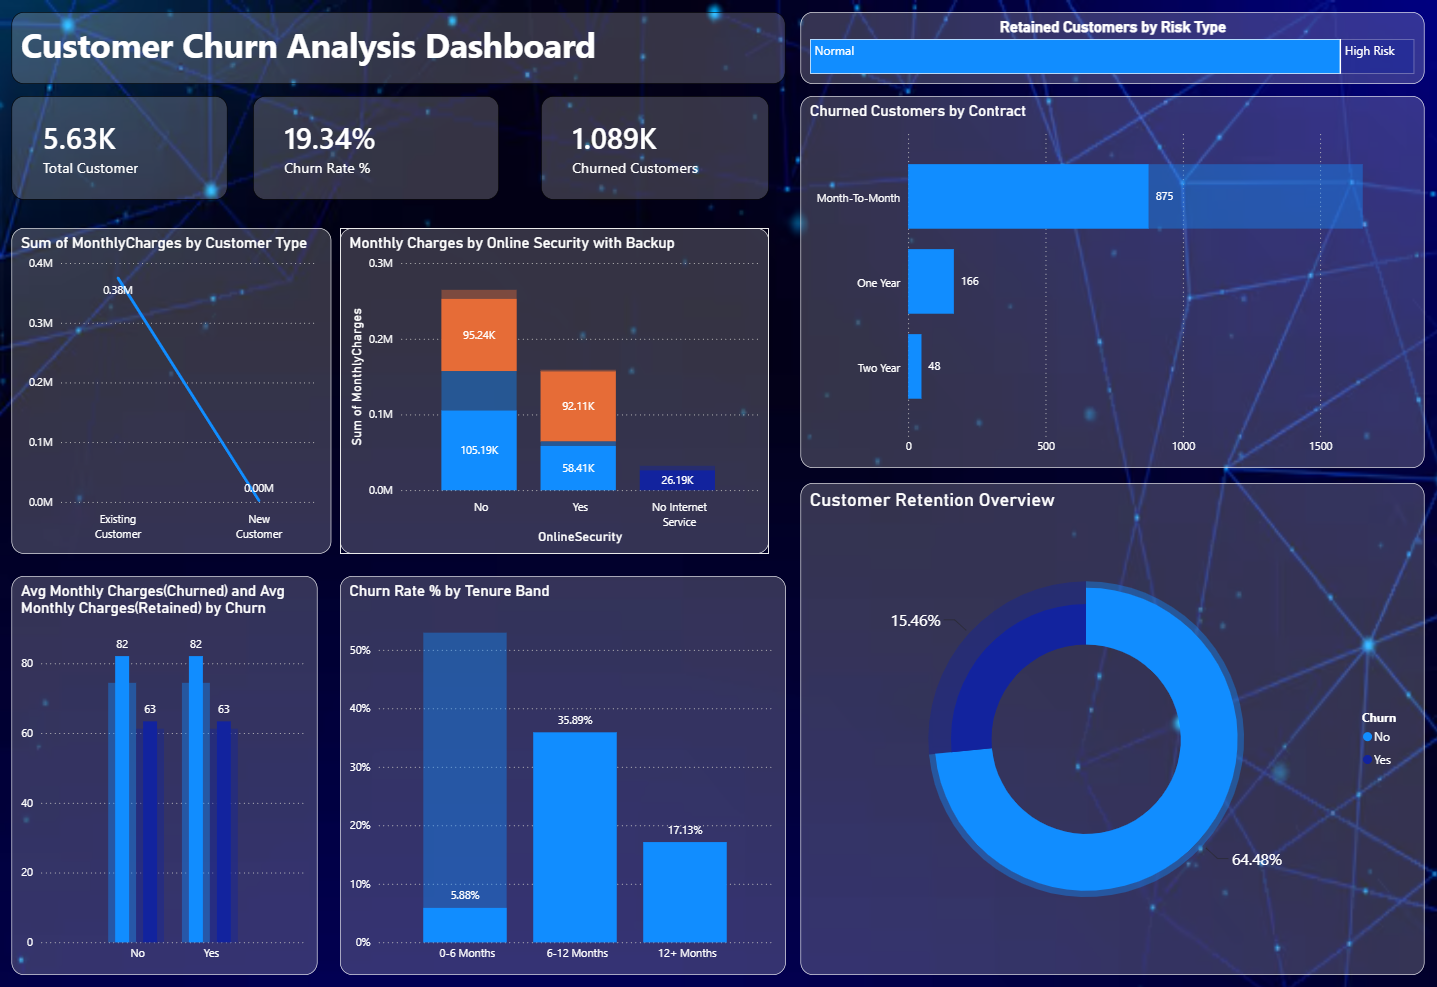

This screenshot's page, from the dashboard's own definition file:
{"tool":"powerbi","page":{"name":"Page 1","canvas":[1600,1280],"ordinal":0},"visuals":[{"type":"textbox","box":[15,13.3,860,80],"z":0},{"type":"treemap","fields":{"Values":["Calculated Measure.Retained Customers"],"Group":["telco_churn_unclean.Risk Type"]},"box":[891.7,13.3,693.3,80],"z":1000},{"type":"cardVisual","fields":{"Data":["Calculated Measure.Total Customer"]},"box":[15,106.7,240,115],"z":2000},{"type":"cardVisual","fields":{"Data":["Calculated Measure.Churn Rate %"]},"box":[283.3,106.7,273.3,115],"z":3000},{"type":"cardVisual","fields":{"Data":["Calculated Measure.Churned Customers"]},"box":[603.3,106.7,253.3,115],"z":4000},{"type":"donutChart","title":"Customer Retention Overview","fields":{"Y":["Calculated Measure.Total Customer"],"Category":["telco_churn_unclean.Churn"]},"box":[891.7,536.7,693.3,546.7],"z":5000},{"type":"barChart","fields":{"Y":["Calculated Measure.Churned Customers"],"Category":["telco_churn_unclean.Contract"]},"box":[891.7,106.7,693.3,413.3],"z":6000},{"type":"columnChart","title":"Monthly Charges by Online Security with Backup","fields":{"Category":["telco_churn_unclean.OnlineSecurity"],"Y":["Sum(telco_churn_unclean.MonthlyCharges)"],"Series":["telco_churn_unclean.OnlineBackup"]},"box":[380,253.3,476.7,361.7],"z":7000},{"type":"columnChart","fields":{"Y":["Calculated Measure.Churn Rate %"],"Category":["telco_churn_unclean.Tenure Brand"]},"box":[380,640,495,443.3],"z":8000},{"type":"clusteredColumnChart","fields":{"Y":["Calculated Measure.Avg Monthly Charges(Churned)","Calculated Measure.Avg Monthly Charges(Retained)"],"Category":["telco_churn_unclean.Churn"]},"box":[15,640,340,443.3],"z":8001},{"type":"lineChart","fields":{"Category":["telco_churn_unclean.Customer Type"],"Y":["Sum(telco_churn_unclean.MonthlyCharges)"]},"box":[15,253.3,355,361.7],"z":8002}]}

Visuals, with their boxes on the page's 1600x1280 design canvas (x1, y1, x2, y2). These are canvas units, not pixel positions in the 1437x987 screenshot, which may show the page scaled, cropped or inside an application window:
textbox: box(15, 13, 875, 93)
treemap - Calculated Measure.Retained Customers x telco_churn_unclean.Risk Type: box(892, 13, 1585, 93)
cardVisual - Calculated Measure.Total Customer: box(15, 107, 255, 222)
cardVisual - Calculated Measure.Churn Rate %: box(283, 107, 557, 222)
cardVisual - Calculated Measure.Churned Customers: box(603, 107, 857, 222)
"Customer Retention Overview" donutChart: box(892, 537, 1585, 1083)
barChart - Calculated Measure.Churned Customers x telco_churn_unclean.Contract: box(892, 107, 1585, 520)
"Monthly Charges by Online Security with Backup" columnChart: box(380, 253, 857, 615)
columnChart - Calculated Measure.Churn Rate % x telco_churn_unclean.Tenure Brand: box(380, 640, 875, 1083)
clusteredColumnChart - Calculated Measure.Avg Monthly Charges(Churned) x Calculated Measure.Avg Monthly Charges(Retained): box(15, 640, 355, 1083)
lineChart - telco_churn_unclean.Customer Type x Sum(telco_churn_unclean.MonthlyCharges): box(15, 253, 370, 615)
